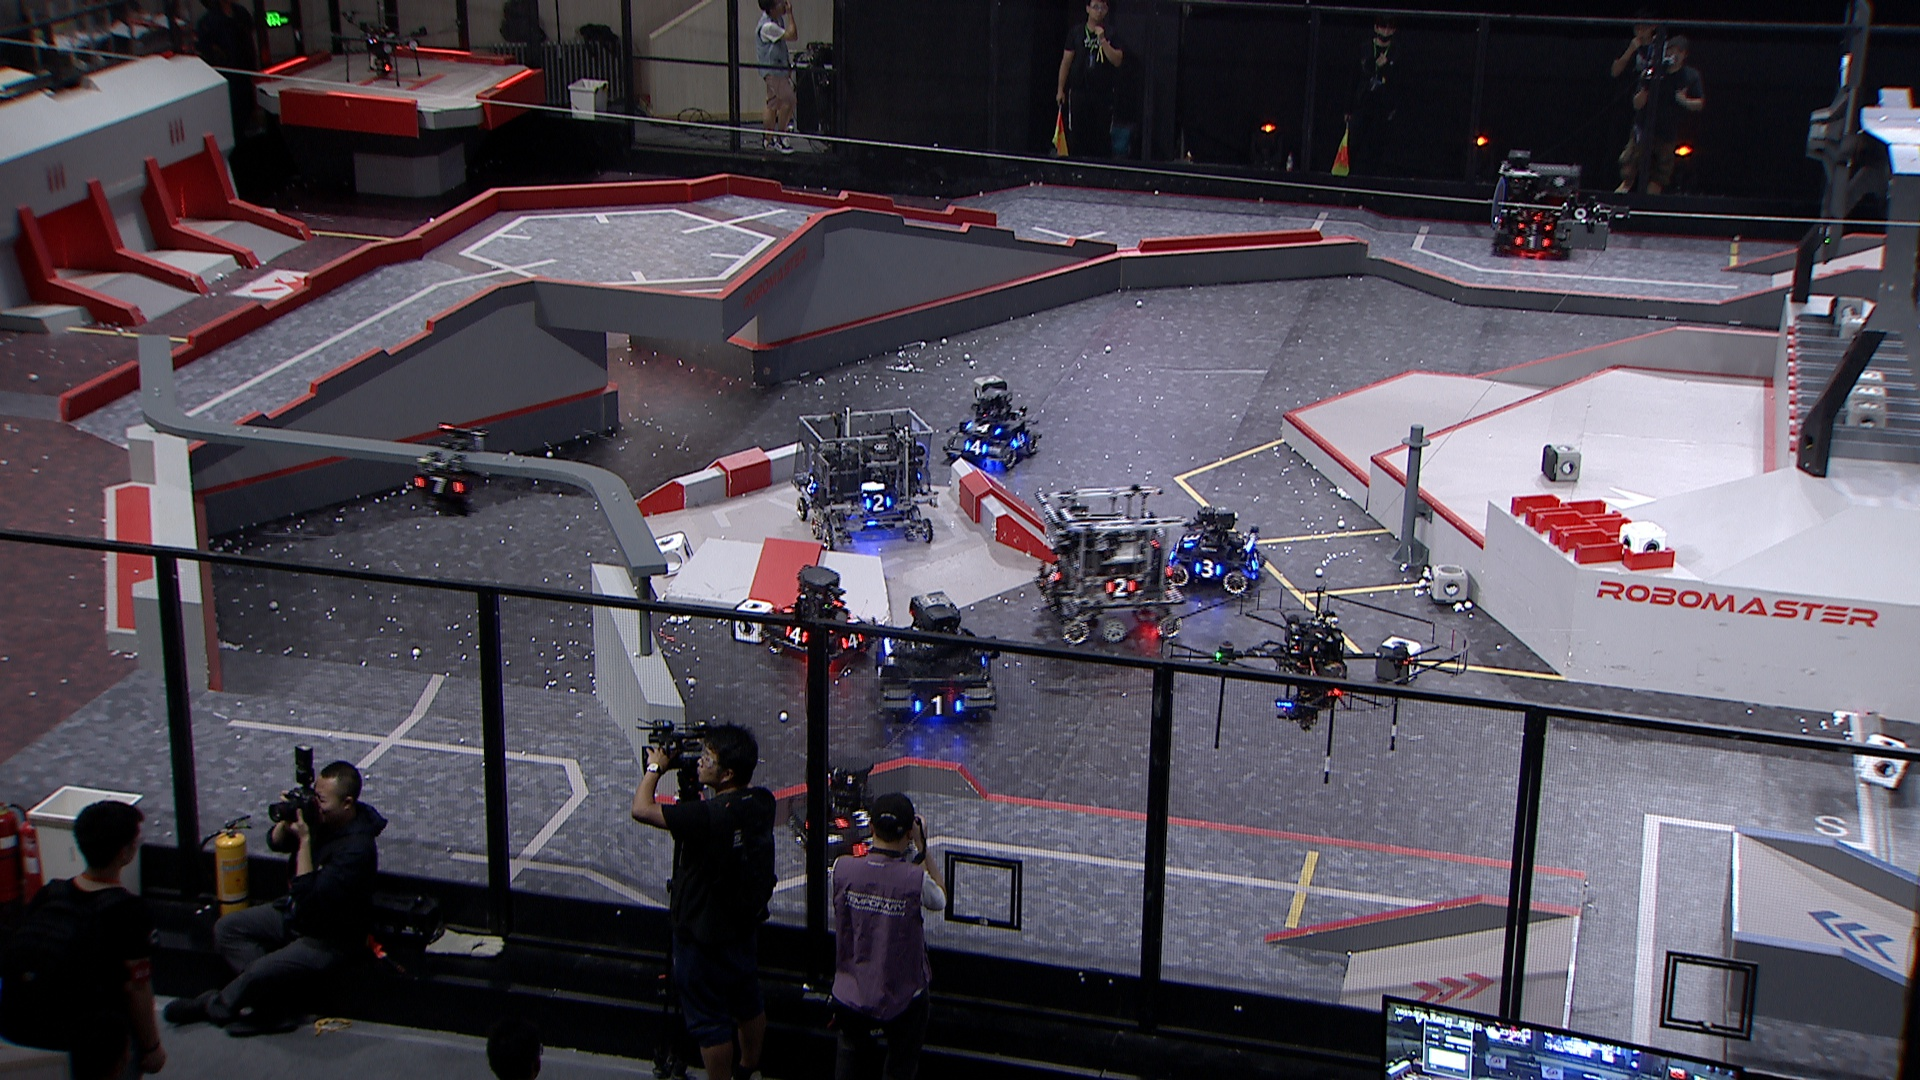armor: (911, 694, 963, 721), (414, 472, 465, 496), (832, 808, 877, 829), (1102, 575, 1138, 600), (1510, 233, 1553, 249), (964, 419, 1004, 436), (865, 491, 891, 516), (1514, 218, 1555, 233), (1195, 556, 1221, 579), (783, 624, 811, 645), (839, 632, 864, 651), (961, 439, 989, 456), (1007, 431, 1029, 451), (1182, 531, 1201, 551), (1043, 560, 1060, 583), (802, 471, 818, 495), (1250, 547, 1262, 571)
car: (1033, 477, 1187, 647), (789, 405, 942, 550), (870, 589, 1000, 727), (782, 752, 915, 873), (764, 562, 876, 669), (1486, 148, 1584, 262), (940, 375, 1048, 473), (1163, 504, 1266, 595)
watcher: (410, 422, 493, 518)
